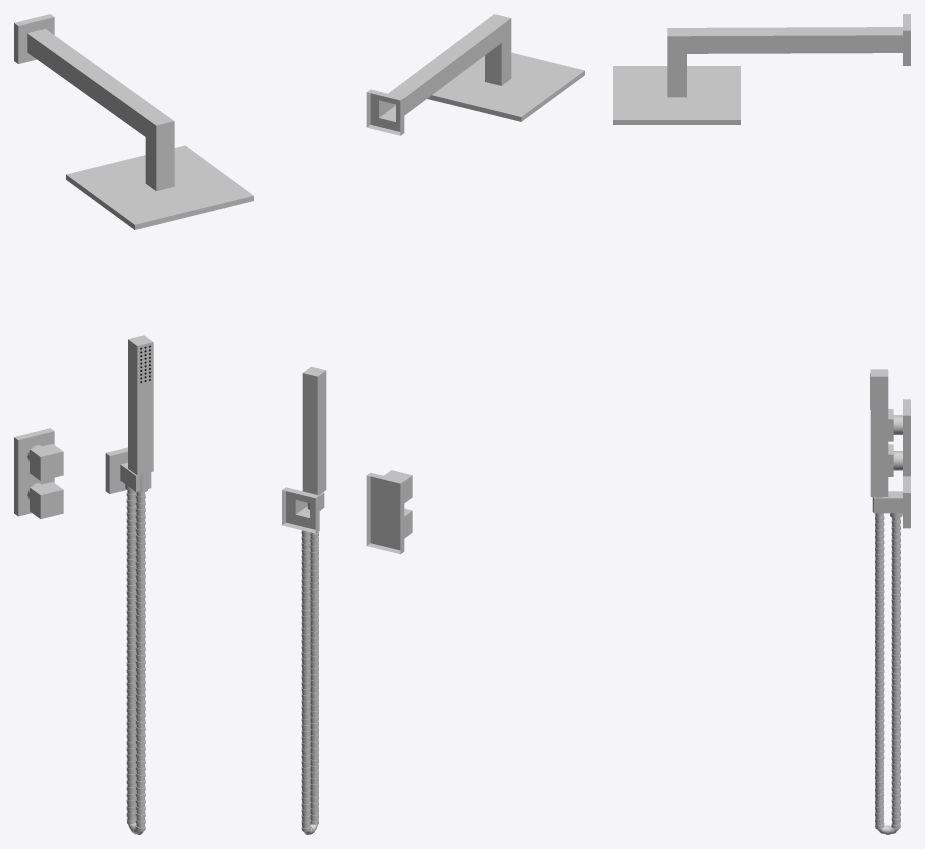
The model's file is shower_modern_05.glb.
The picture shows the model from 3 angles, left to right: view 1: azimuth 30°, elevation 25°; view 2: azimuth 150°, elevation 25°; view 3: azimuth 270°, elevation 25°; orthographic projection. The views are drawn at different scales.
Parts seen in each view (by area): view 1: ShowerSystem05, ShowerSystem05Button01, ShowerSystem05Button02; view 2: ShowerSystem05; view 3: ShowerSystem05.
Boxes of the visible parts, x1=… form: ShowerSystem05: x1=14, y1=14, x2=253, y2=834; ShowerSystem05Button01: x1=30, y1=443, x2=63, y2=480; ShowerSystem05Button02: x1=30, y1=482, x2=63, y2=518; ShowerSystem05: x1=282, y1=14, x2=584, y2=834; ShowerSystem05: x1=613, y1=14, x2=910, y2=834.
Size of the model in its own units: 0.4128 by 1.95 by 0.684.
1 material, 1 textured.
